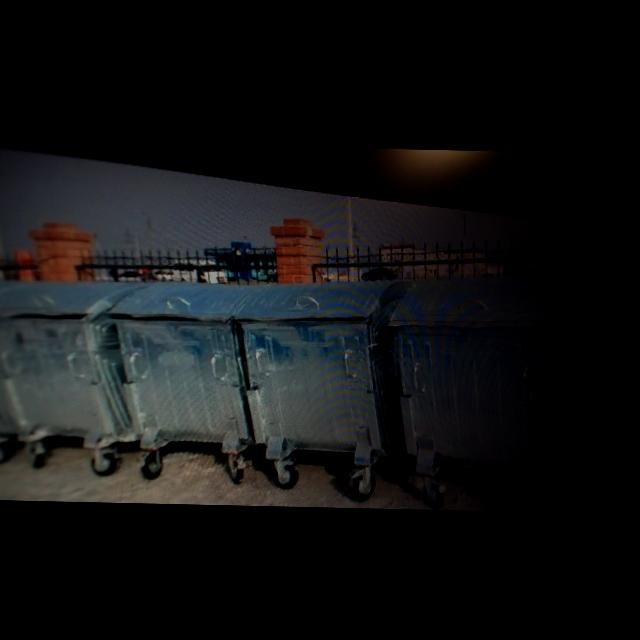Trash_Can_Closed: (390, 271, 576, 477), (234, 273, 409, 457), (109, 277, 261, 445), (0, 276, 144, 441)
